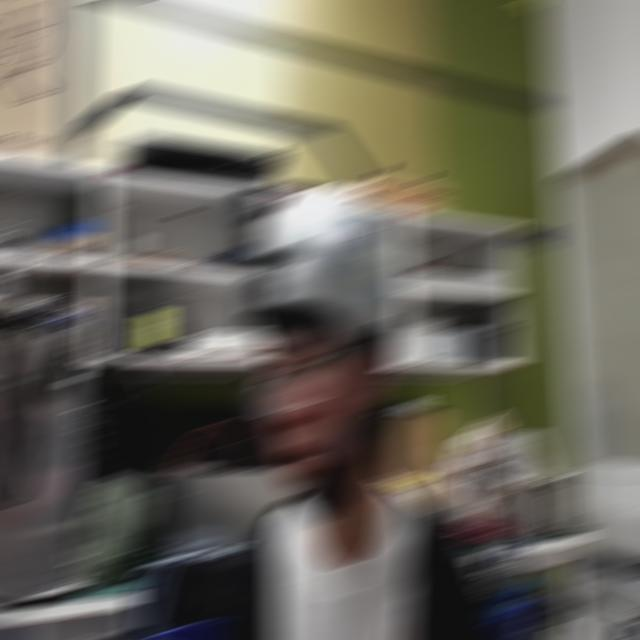With Helmet: (195, 150, 448, 523)
